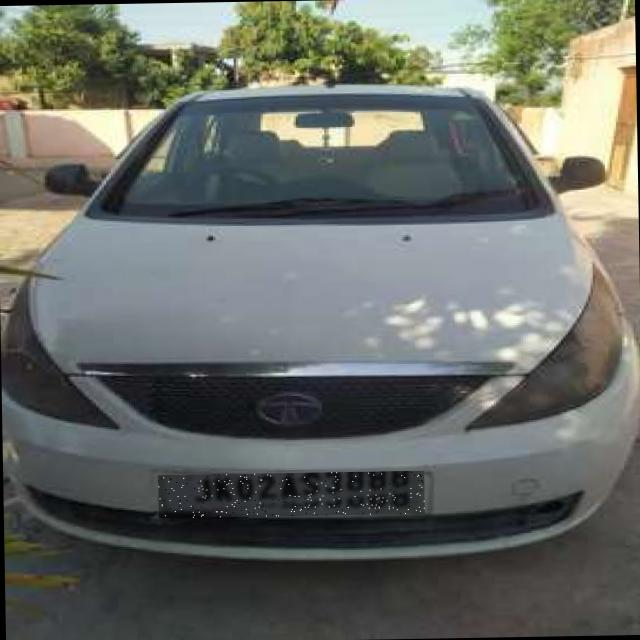Plate: (159, 471, 426, 519)
